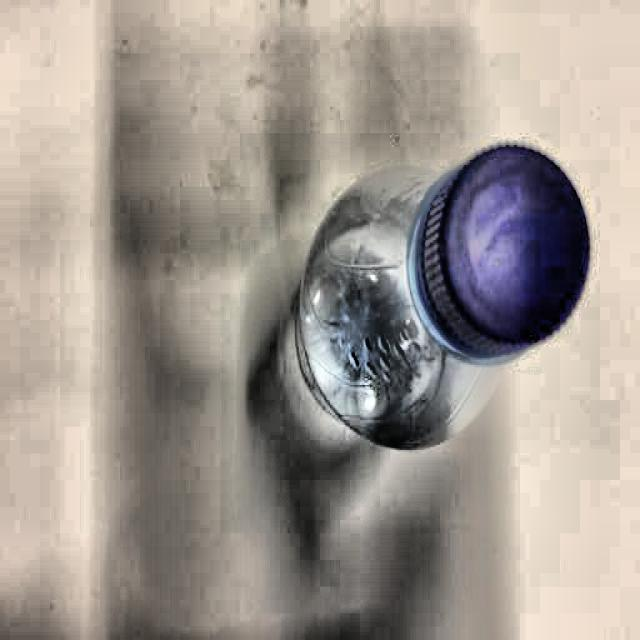plastic: (300, 136, 591, 461)
